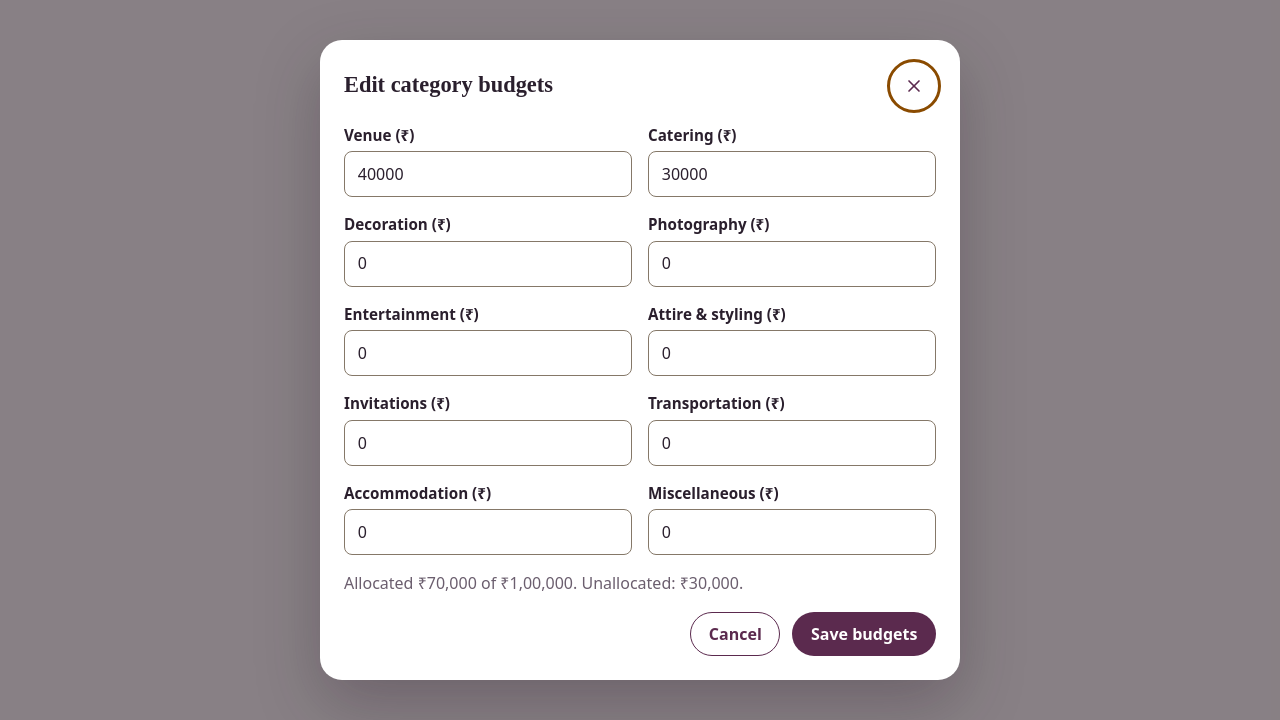
Test: AllocationDialog › flags a category that is not a whole number
Replace the text in the field labelled "Venue (₹)" with "12.5" at [488, 174], box [344, 151, 632, 197]
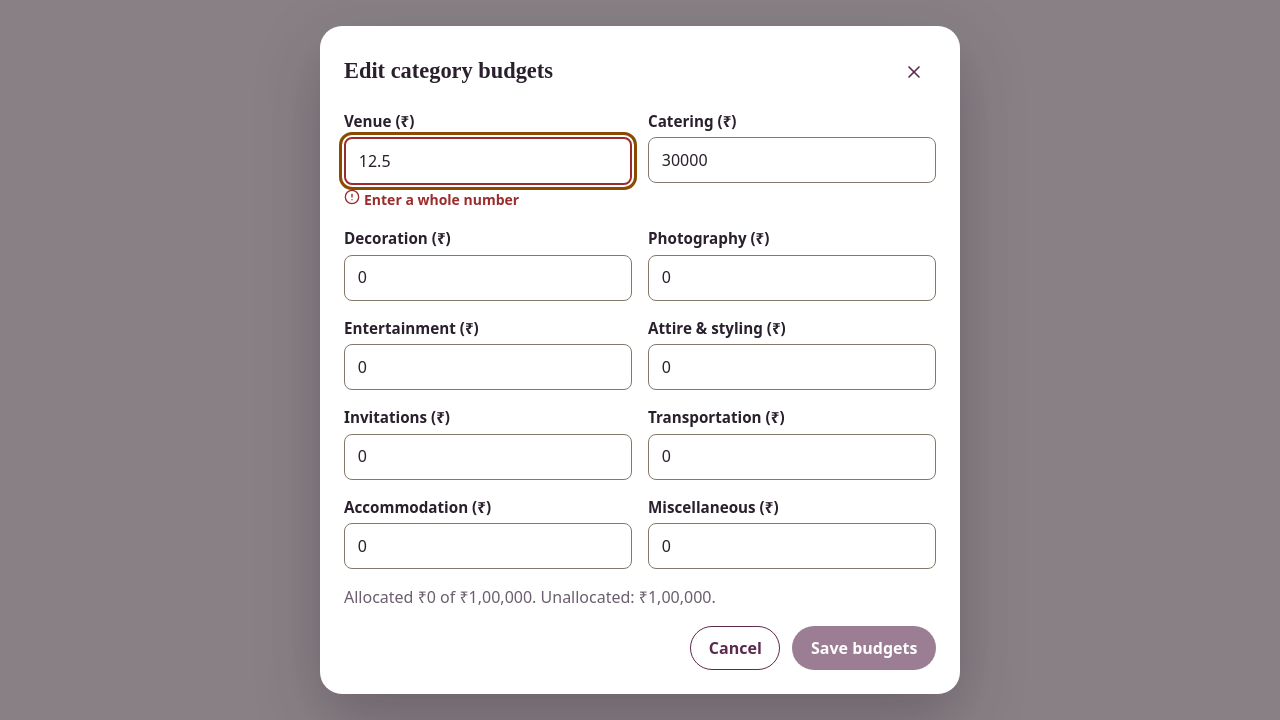
Check: the text "Enter a whole number" is shown, box [344, 189, 519, 209]
Check: the button "Save budgets" is disabled, box [792, 626, 936, 670]
